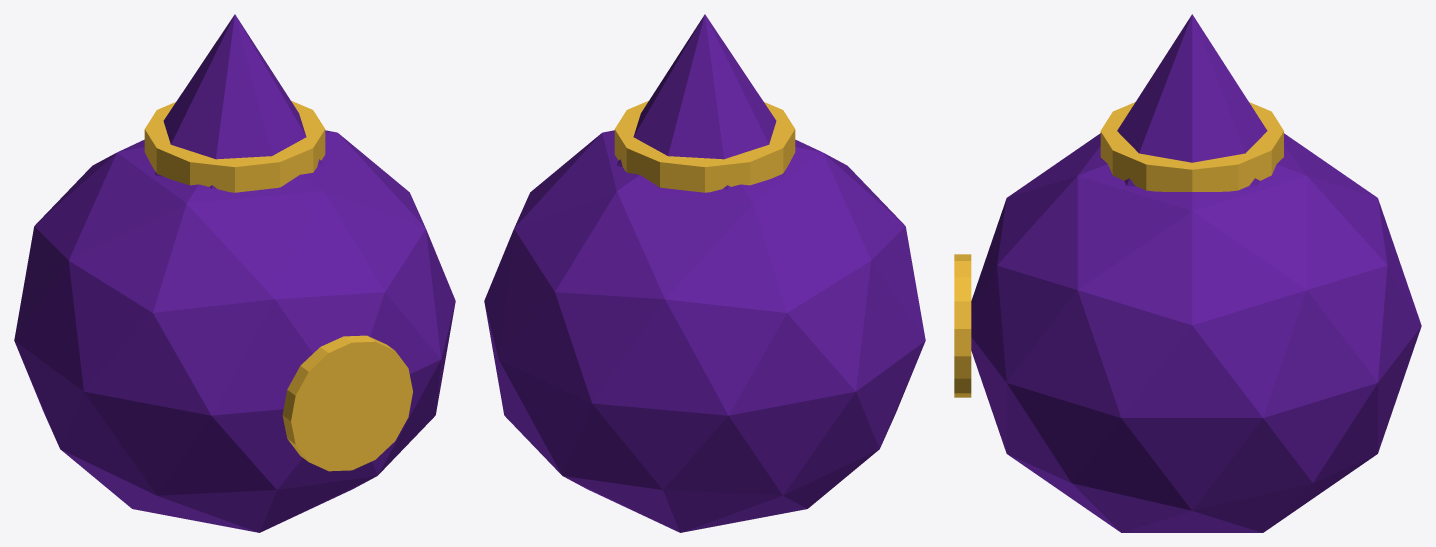
The model's file is Item_OR_MoneyBag_24.glb.
3 renders of one model, left to right at view 1: azimuth 30°, elevation 25°; view 2: azimuth 150°, elevation 25°; view 3: azimuth 270°, elevation 25°, orthographic.
Parts seen in each view (by area): view 1: Item_OR_MoneyBag_24; view 2: Item_OR_MoneyBag_24; view 3: Item_OR_MoneyBag_24.
Boxes of the visible parts, x1,y1,x2,y2 form: Item_OR_MoneyBag_24: (14, 14, 455, 532); Item_OR_MoneyBag_24: (484, 14, 925, 532); Item_OR_MoneyBag_24: (954, 14, 1421, 532).
Bounding box in the file's own units: 0.2283 × 0.2925 × 0.2445.
